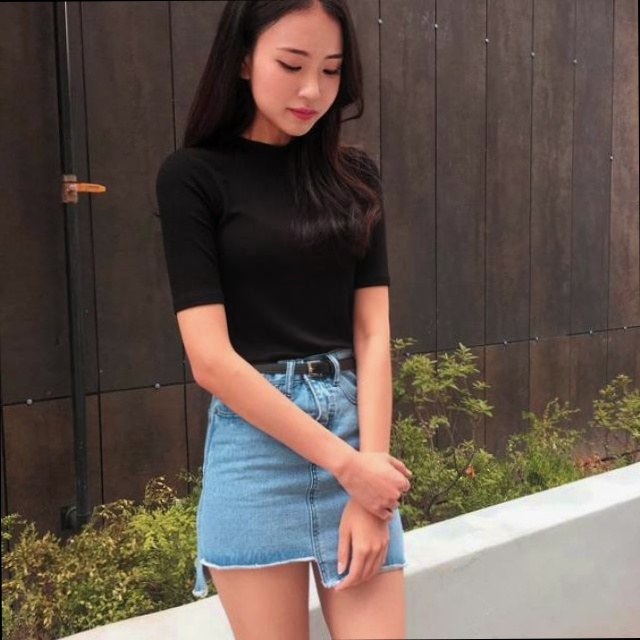Miniskirt: (189, 345, 409, 640)
